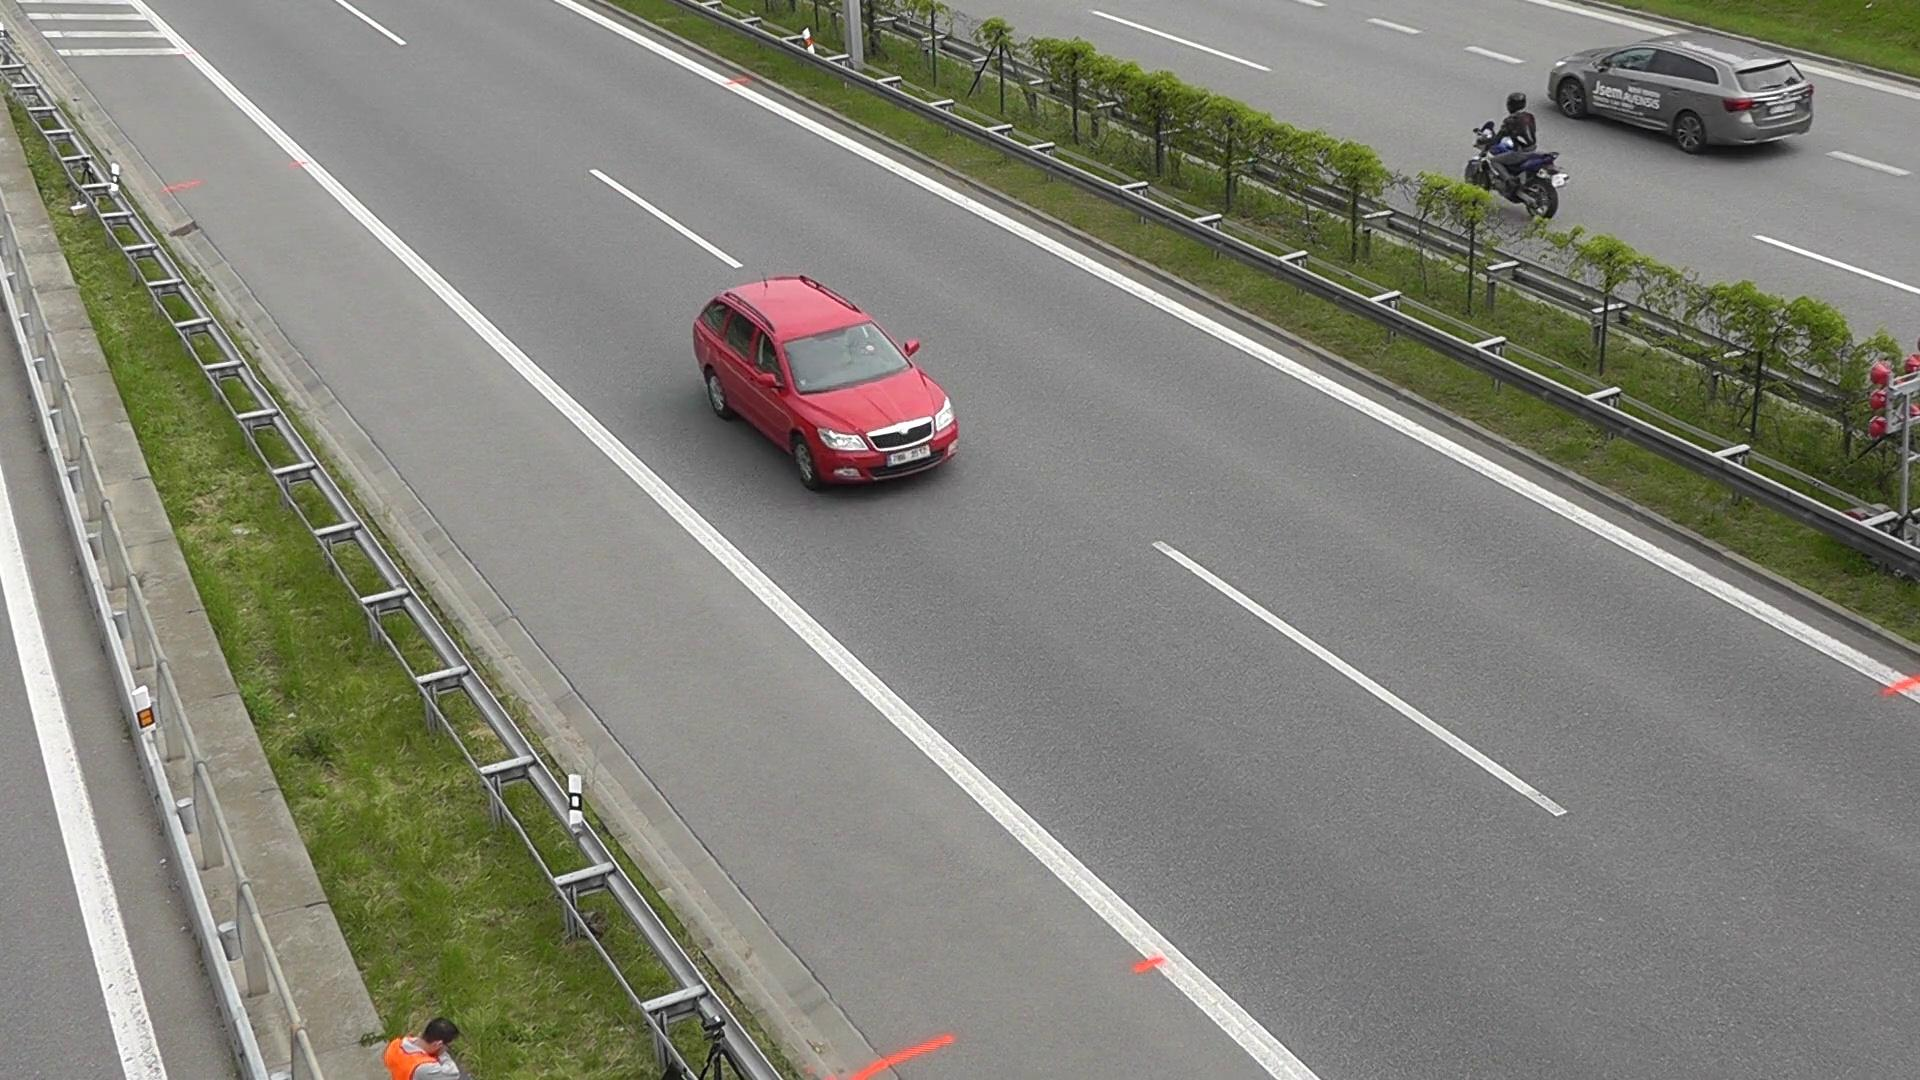Car: (640, 266, 984, 507), (1552, 18, 1811, 159)
Motorcycle: (1478, 90, 1562, 223)
